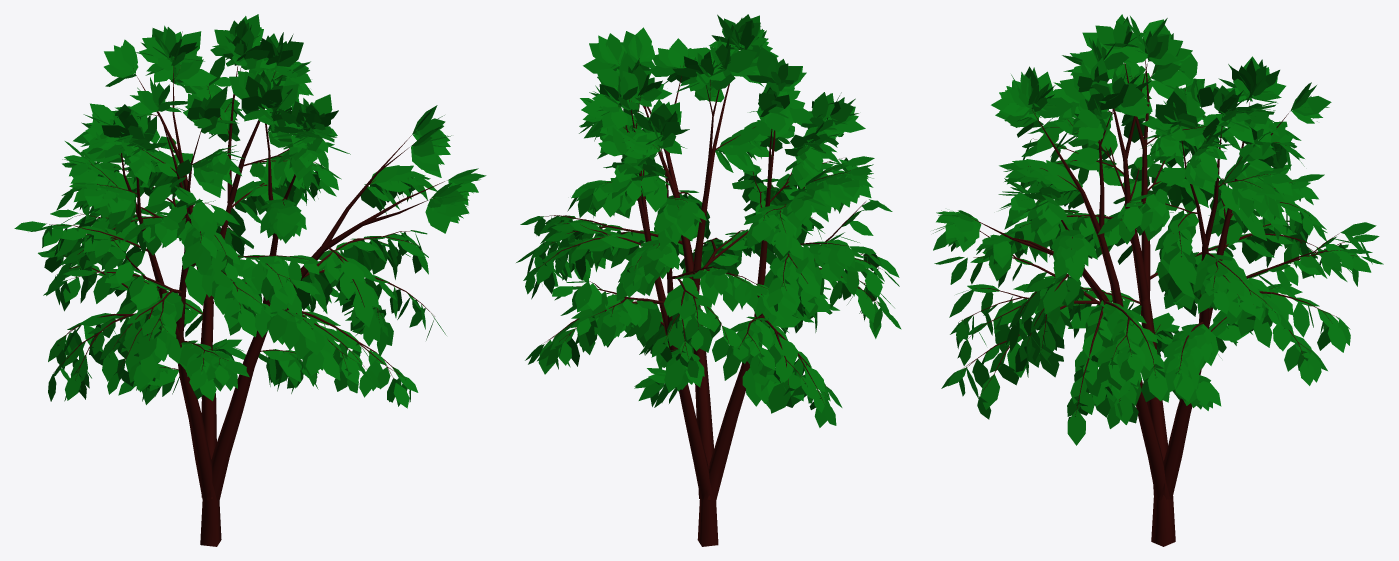
File: Tree.fbx
3 views of the same model, side by side, from view 1: azimuth 30°, elevation 25°; view 2: azimuth 150°, elevation 25°; view 3: azimuth 270°, elevation 25° (orthographic). The views are drawn at different scales.
Visible parts, largest first — view 1: tree; view 2: tree; view 3: tree.
Boxes of the visible parts, x1,y1,x2,y2 form: tree: (14, 14, 486, 546); tree: (516, 14, 901, 546); tree: (933, 14, 1383, 546).
Bounding box in the file's own units: 1185 × 1422 × 1195.
